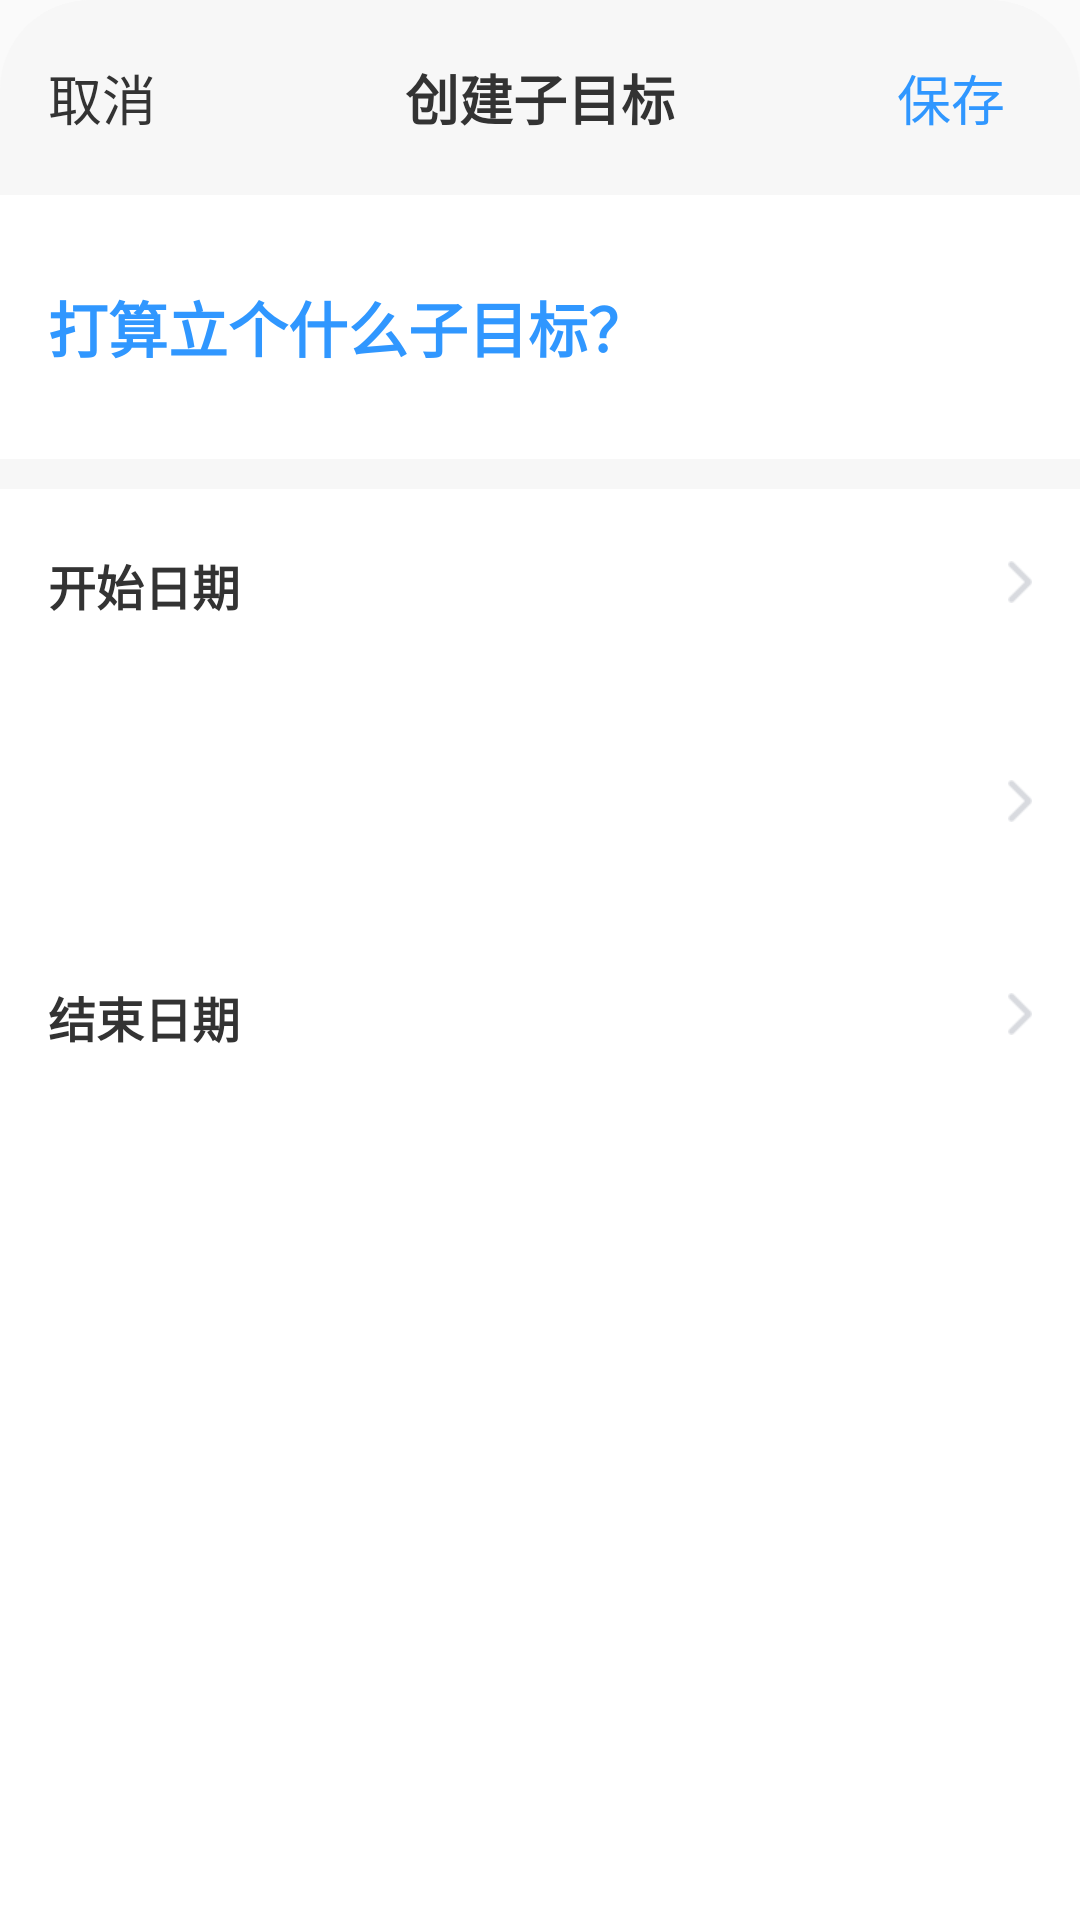

Icons on this 1080x1920 Android screen, each with the point to tap as (x,y):
right: (1020,582), (1020,801), (1020,1014)
